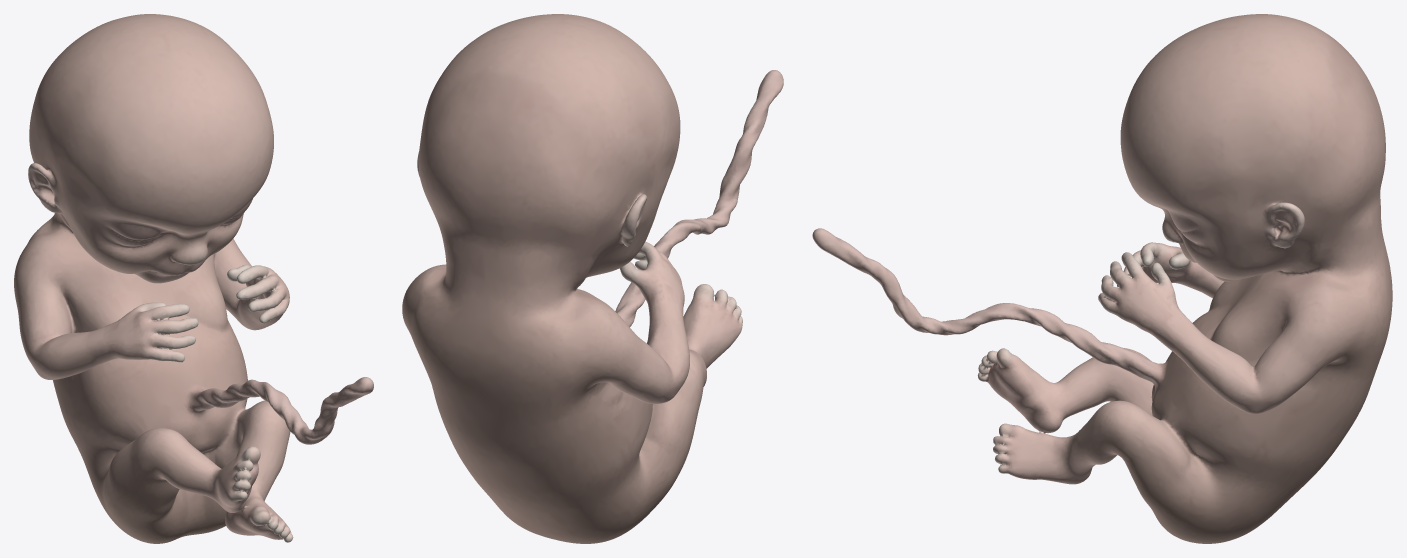
The model's file is semaine-13.glb.
3 renders of one model, left to right at view 1: azimuth 30°, elevation 25°; view 2: azimuth 150°, elevation 25°; view 3: azimuth 270°, elevation 25°, orthographic. The views are drawn at different scales.
Size of the model in its own units: 0.9814 by 1.92 by 2.
